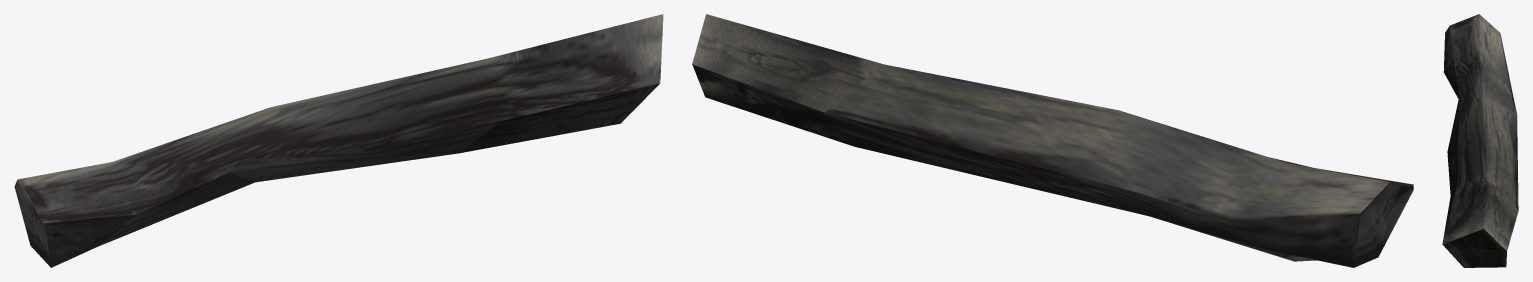
Rendered from Curved_Woodlog.obj.
The picture shows the model from 3 angles, left to right: view 1: azimuth 30°, elevation 25°; view 2: azimuth 150°, elevation 25°; view 3: azimuth 270°, elevation 25°; orthographic projection. The views are drawn at different scales.
Visible parts, largest first — view 1: Curved_Old_Woodlog_Cube.012; view 2: Curved_Old_Woodlog_Cube.012; view 3: Curved_Old_Woodlog_Cube.012.
Part boxes in pixels (x1,y1,x2,y2): Curved_Old_Woodlog_Cube.012: (14, 14, 663, 267); Curved_Old_Woodlog_Cube.012: (692, 14, 1413, 267); Curved_Old_Woodlog_Cube.012: (1442, 14, 1518, 267).
Size of the model in its own units: 2.01 by 0.2966 by 0.2963.
